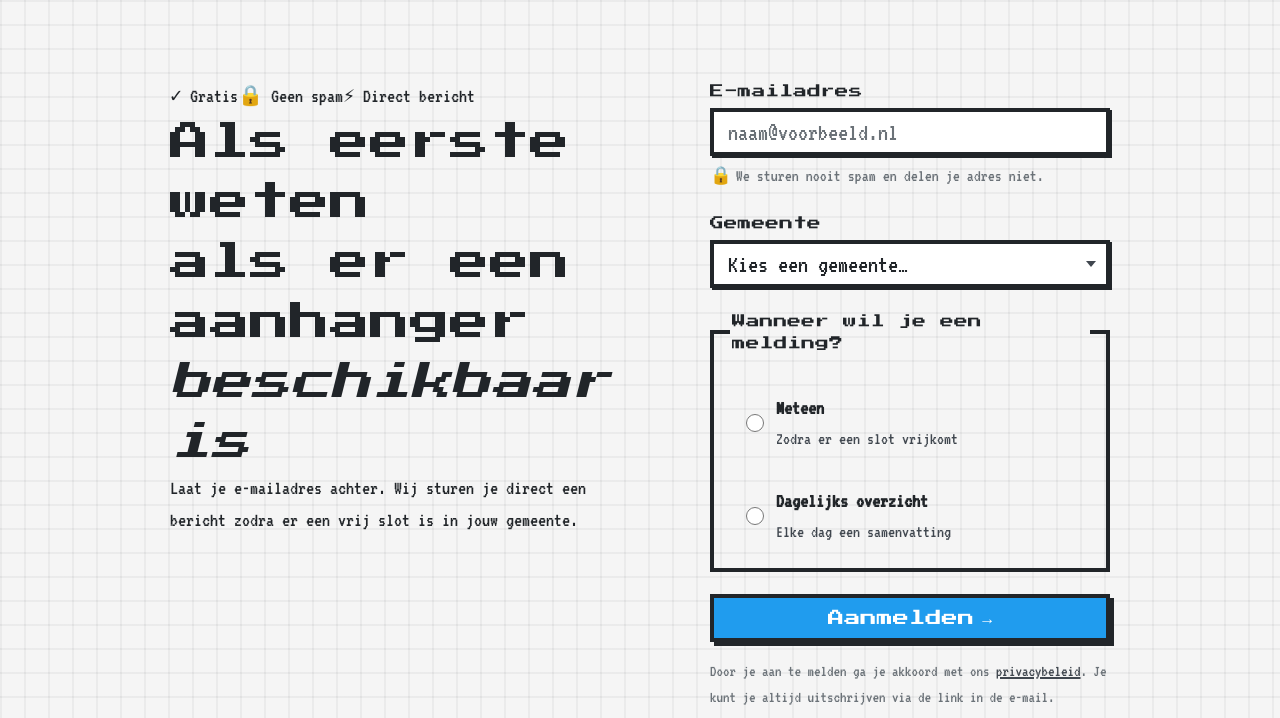
Test: SubscribeComponent › shows frequency error on submit attempt with no frequency selected
In the field labelled "E-mailadres": (910, 132) [710, 108, 1110, 156], type "test@example.com"
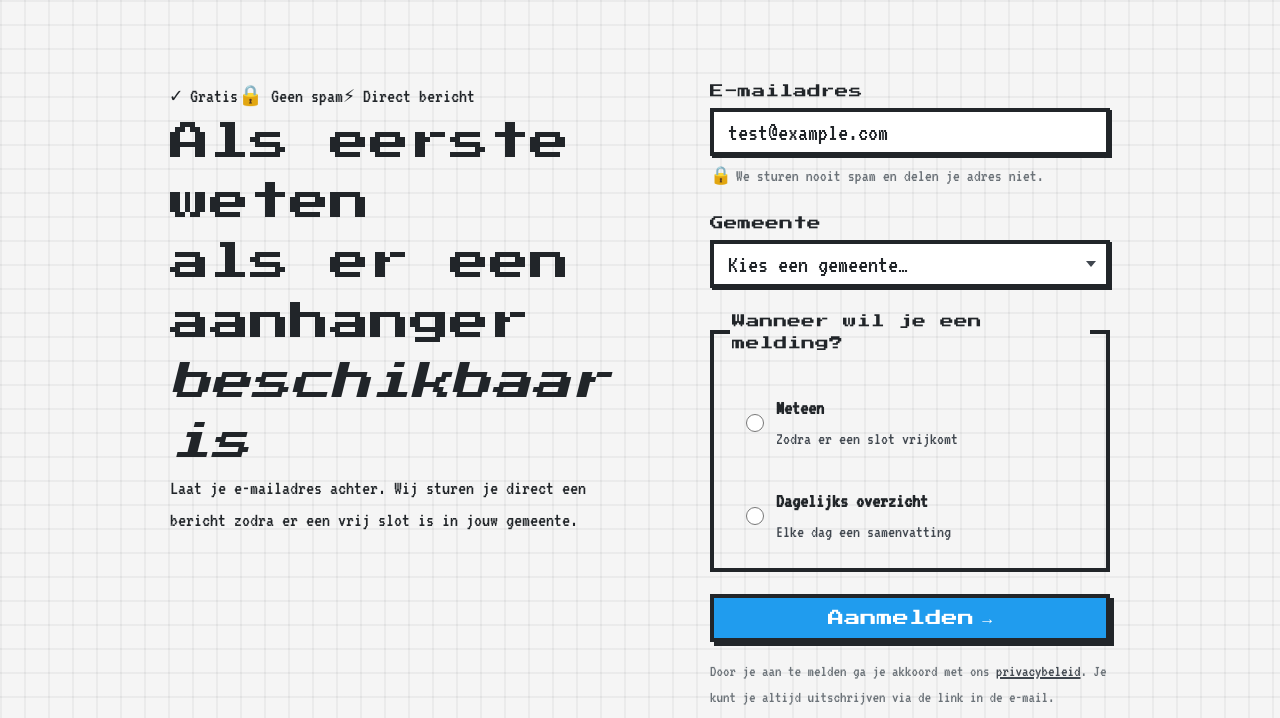
Select "Ede" in the dropdown labelled "Gemeente": (910, 264) [710, 240, 1110, 288]
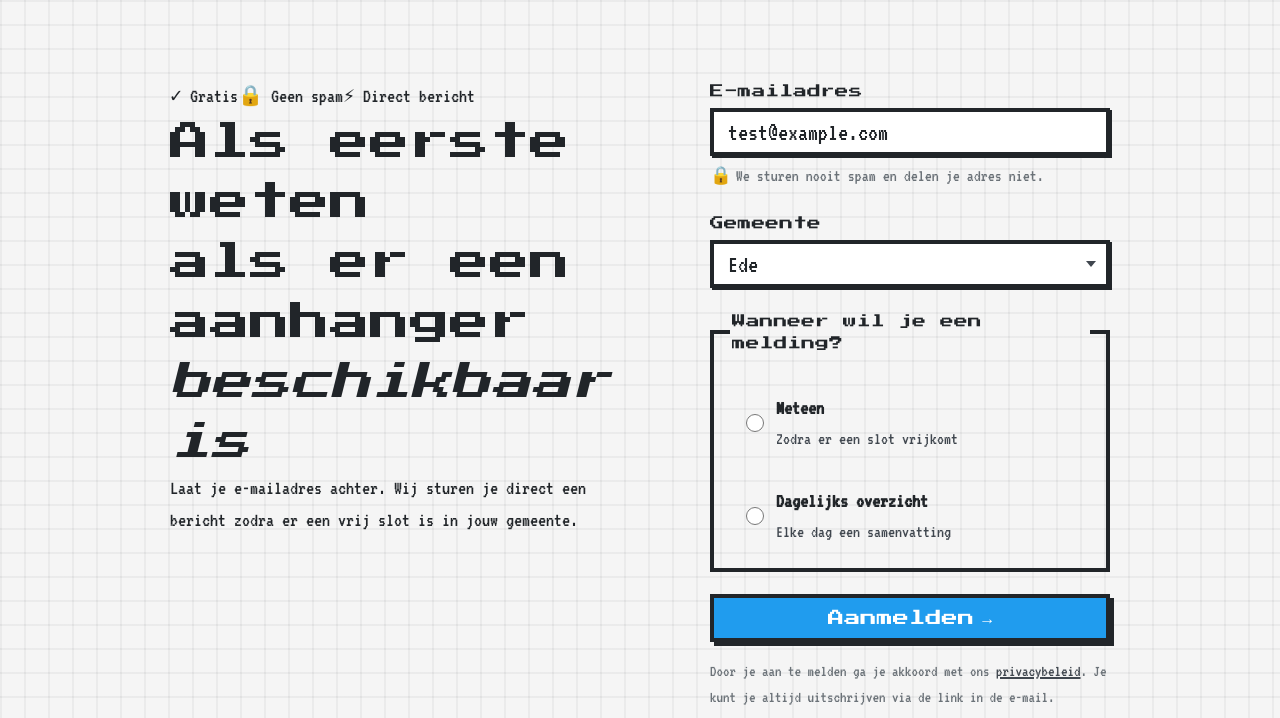
Submit the form, box [710, 80, 1110, 642]
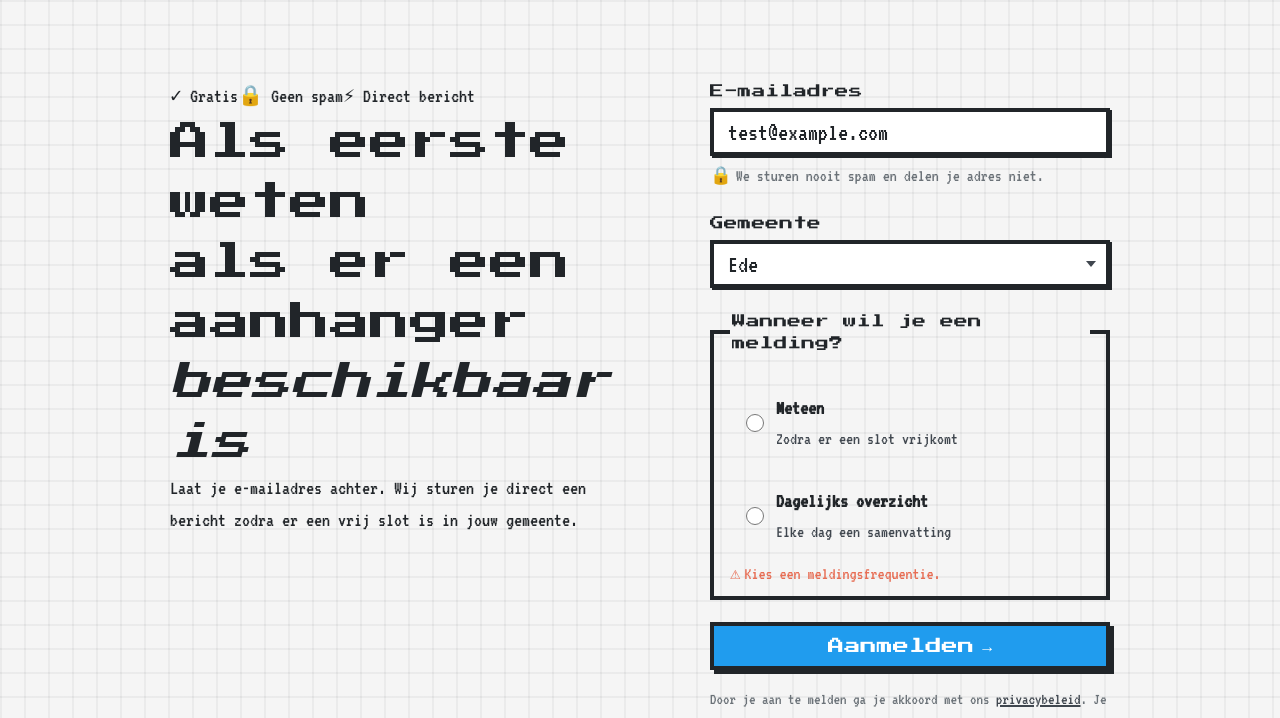
Check: the text "⚠ Kies een meldingsfrequentie." is shown, box [730, 565, 940, 583]
